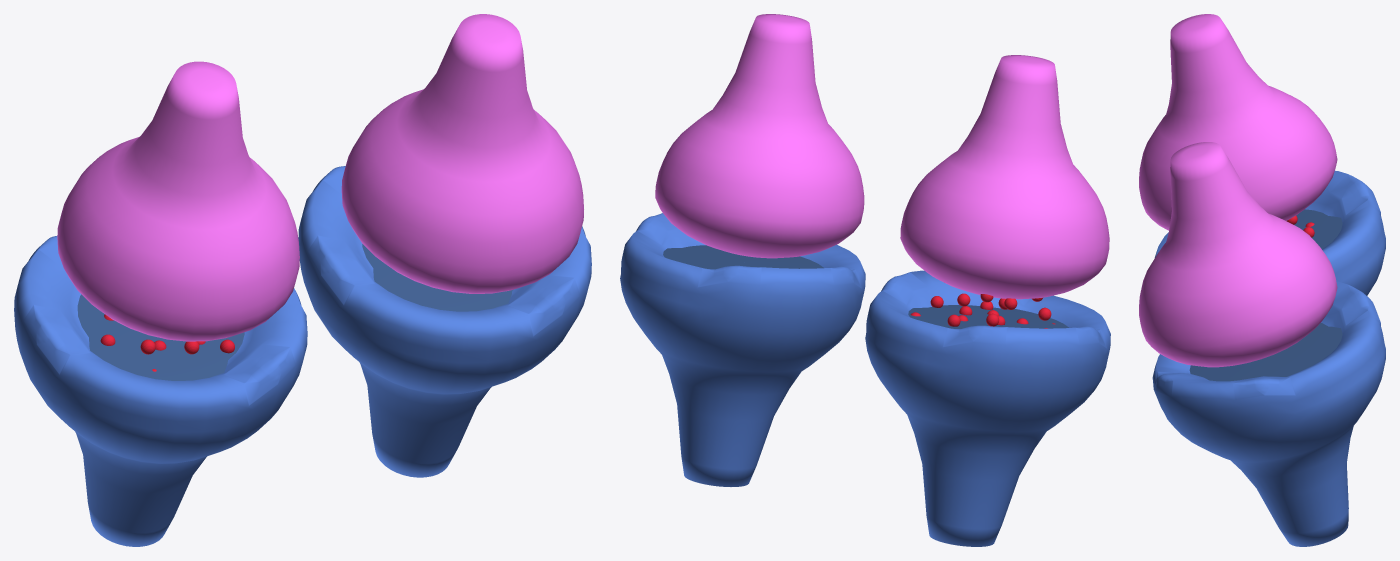
Rendered from synapses.glb.
The picture shows the model from 3 angles, left to right: view 1: azimuth 30°, elevation 25°; view 2: azimuth 150°, elevation 25°; view 3: azimuth 270°, elevation 25°; orthographic projection. The views are drawn at different scales.
Visible parts, largest first — view 1: Sphere, Sphere.028, Sphere.001, Sphere.029, Sphere.002, Sphere.030; view 2: Sphere.001, Sphere.029, Sphere.028, Sphere, Sphere.030, Sphere.002; view 3: Sphere.028, Sphere.029, Sphere, Sphere.001, Sphere.030, Sphere.002.
Boxes of the visible parts, bbox=[...] form: Sphere: bbox=[57, 61, 299, 341]; Sphere.028: bbox=[341, 14, 583, 293]; Sphere.001: bbox=[14, 236, 307, 546]; Sphere.029: bbox=[298, 166, 591, 477]; Sphere.002: bbox=[77, 294, 244, 380]; Sphere.030: bbox=[362, 244, 513, 311]; Sphere.001: bbox=[865, 270, 1110, 546]; Sphere.029: bbox=[620, 213, 865, 486]; Sphere.028: bbox=[655, 14, 864, 258]; Sphere: bbox=[900, 55, 1109, 299]; Sphere.030: bbox=[663, 245, 823, 269]; Sphere.002: bbox=[908, 305, 1068, 328]; Sphere.028: bbox=[1139, 142, 1337, 367]; Sphere.029: bbox=[1152, 281, 1385, 546]; Sphere: bbox=[1139, 14, 1337, 230]; Sphere.001: bbox=[1154, 170, 1385, 295]; Sphere.030: bbox=[1189, 323, 1342, 381]; Sphere.002: bbox=[1294, 209, 1342, 249].
Bounding box in the file's own units: 14.29 × 13.06 × 7.14.
